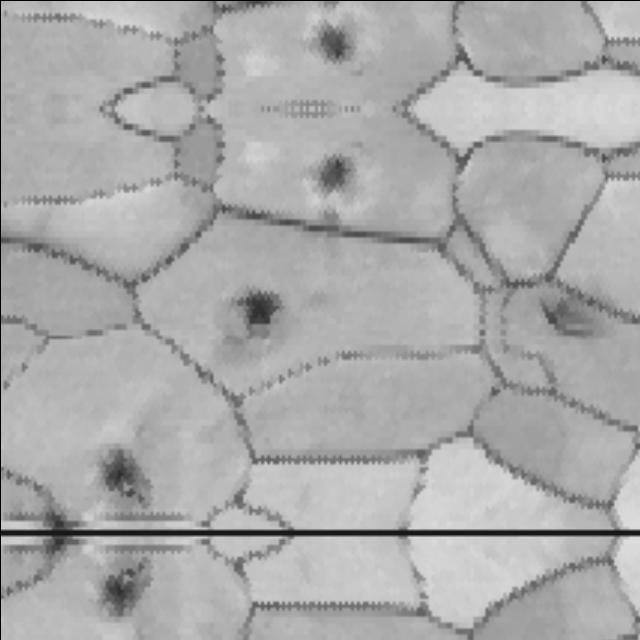good_void: (93, 437, 163, 513), (93, 553, 163, 629), (535, 296, 612, 346), (309, 150, 367, 195), (309, 22, 367, 67), (227, 281, 279, 330)
